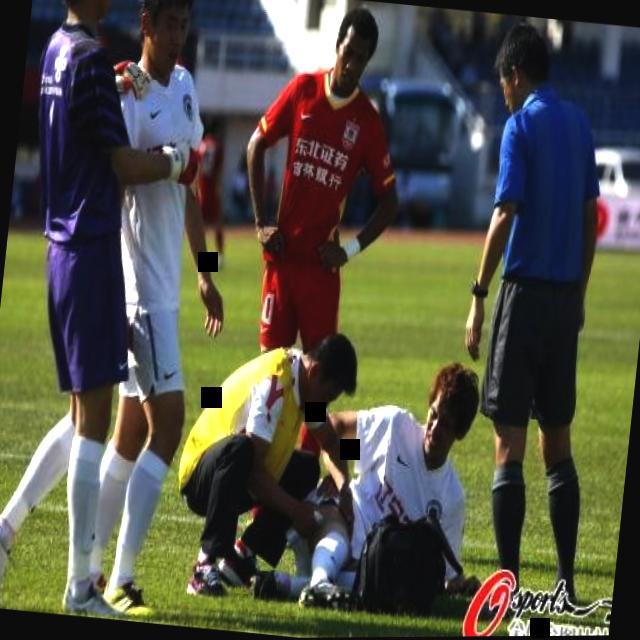Fall-Detected: (230, 323, 504, 634)
